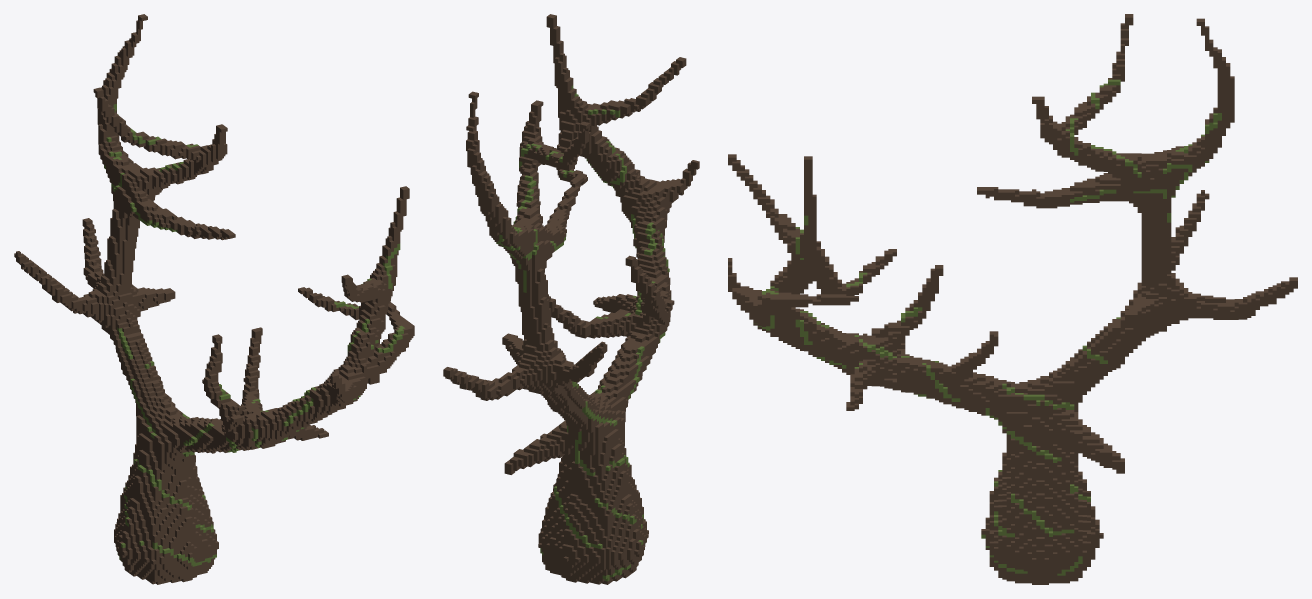
Rendered from good-18.obj.
3 renders of one model, left to right at view 1: azimuth 30°, elevation 25°; view 2: azimuth 150°, elevation 25°; view 3: azimuth 270°, elevation 25°, orthographic. The views are drawn at different scales.
Size of the model in its own units: 7.1 by 15.1 by 13.5.
1 material, 1 textured.
